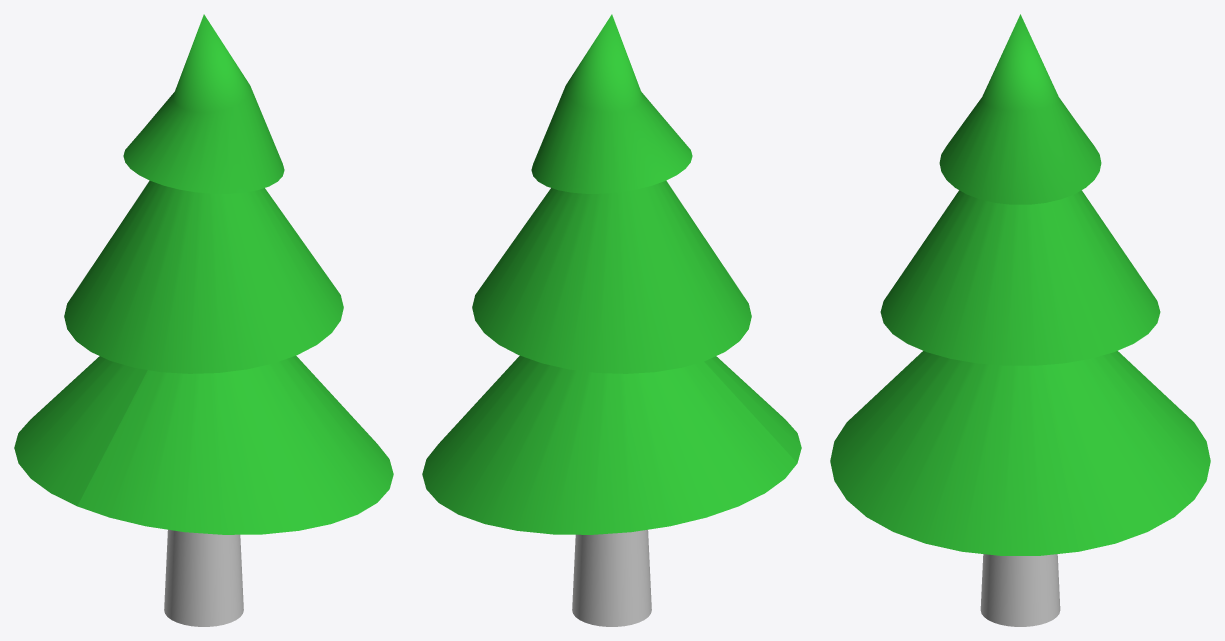
The model's file is tree.fbx.
3 renders of one model, left to right at view 1: azimuth 30°, elevation 25°; view 2: azimuth 150°, elevation 25°; view 3: azimuth 270°, elevation 25°, orthographic.
Visible parts, largest first — view 1: tree; view 2: tree; view 3: tree.
Boxes of the visible parts, x1=… form: tree: x1=14, y1=14, x2=393, y2=626; tree: x1=422, y1=14, x2=801, y2=626; tree: x1=830, y1=14, x2=1210, y2=626.
Bounding box in the file's own units: 845 × 1473 × 853.
